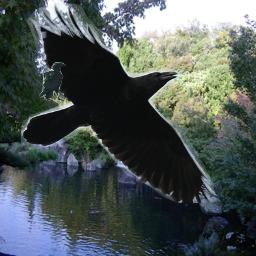Crow: (21, 1, 217, 203), (39, 62, 66, 100)
